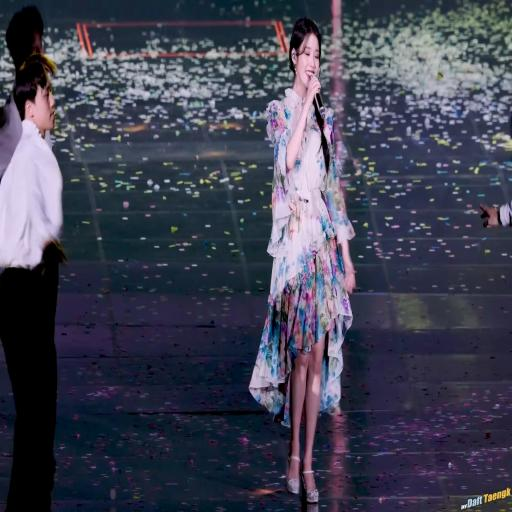IU: (290, 19, 322, 89)
